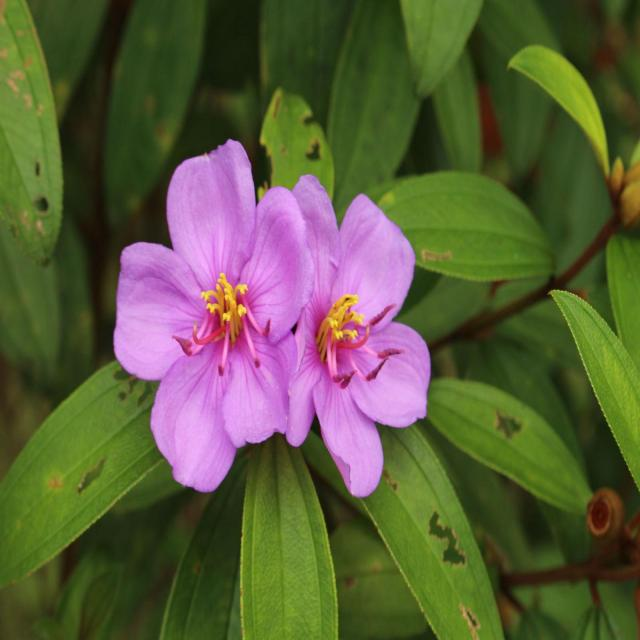organic waste: (98, 134, 437, 508)
